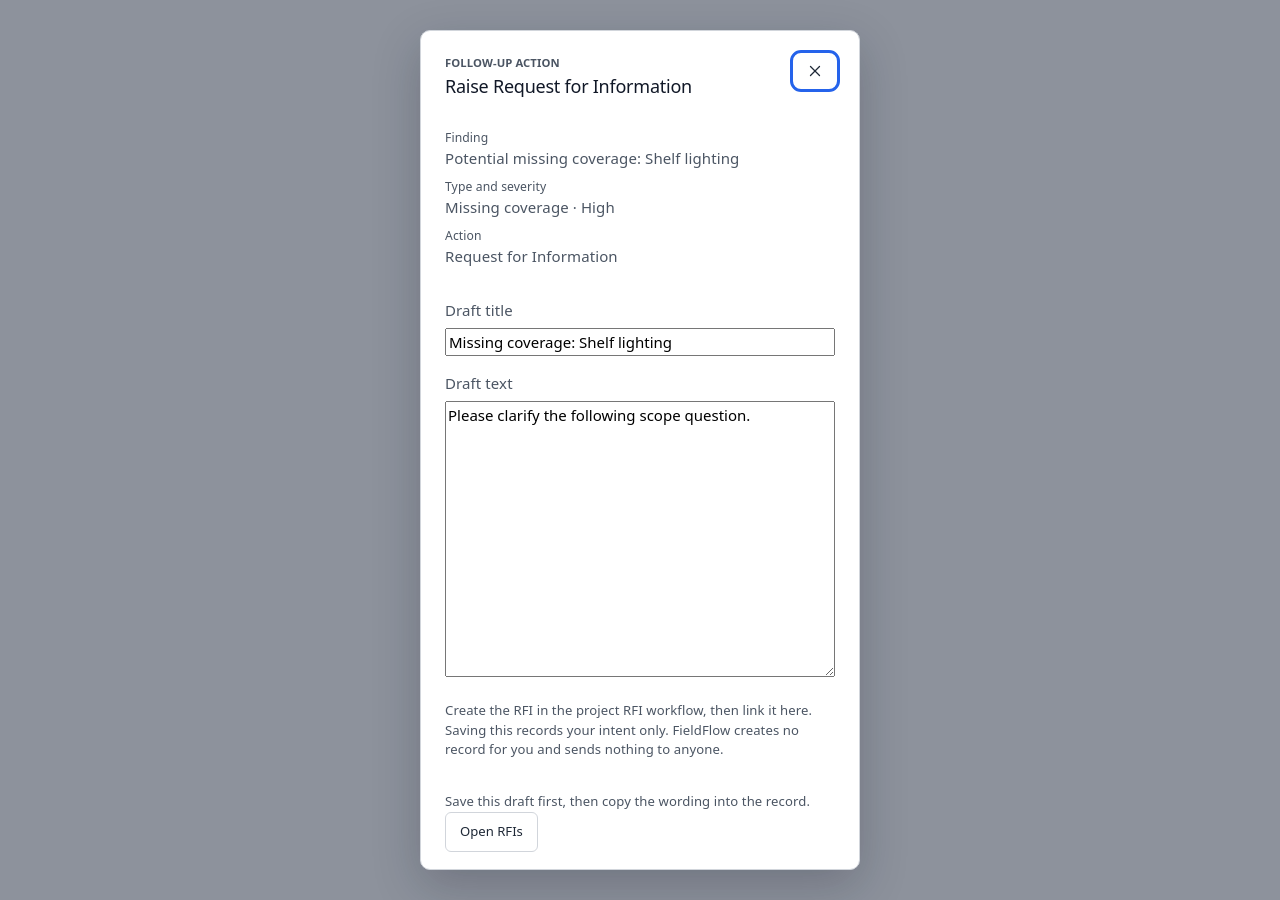
Test: RaiseFollowUpDialog › requires a title and a body
Step 1. Clear the field labelled "Draft title" → {"x": 640, "y": 342}, box [445, 328, 835, 356]
(page scrolled)
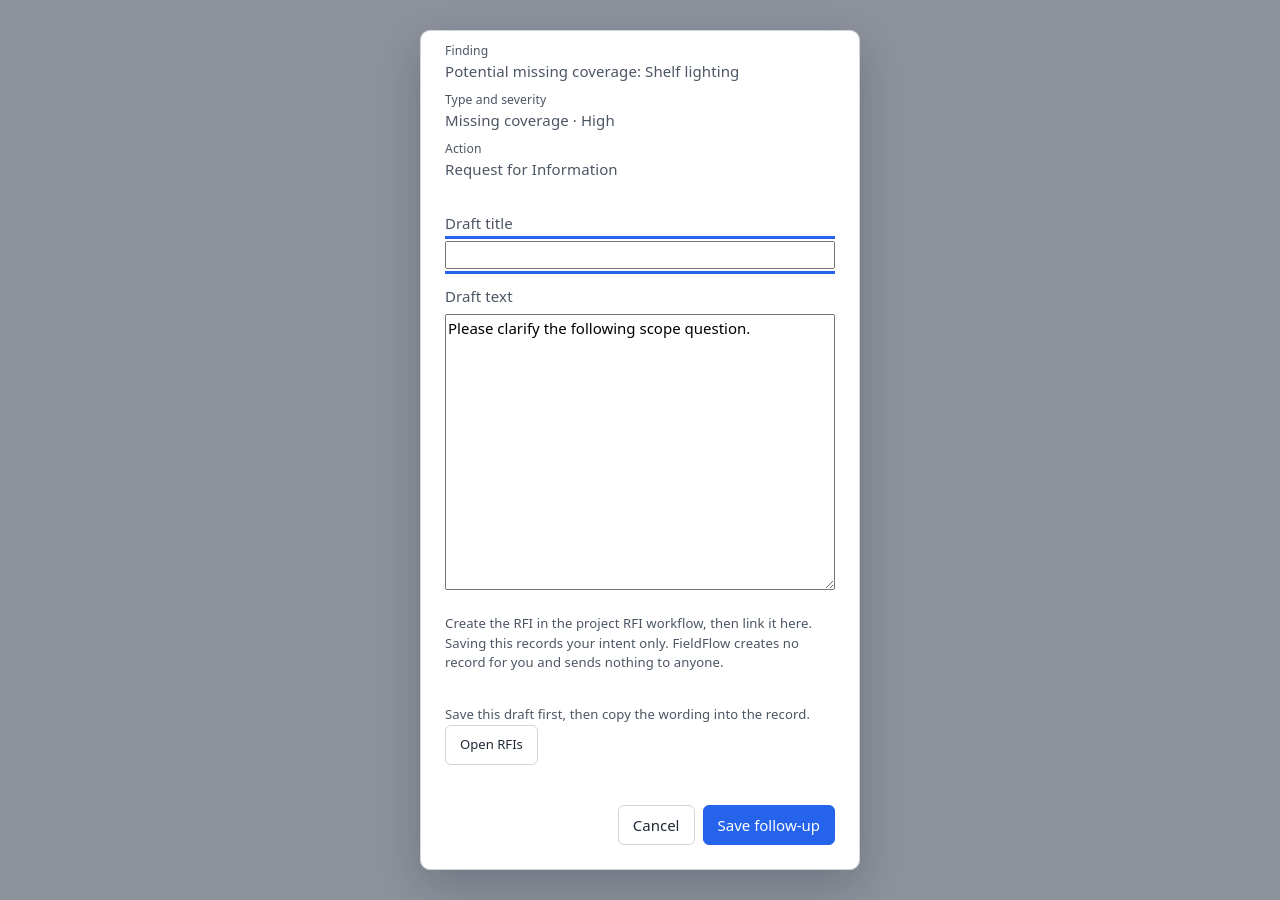
Step 2. Click the button "Save follow-up" → {"x": 769, "y": 825}, box [702, 805, 835, 845]
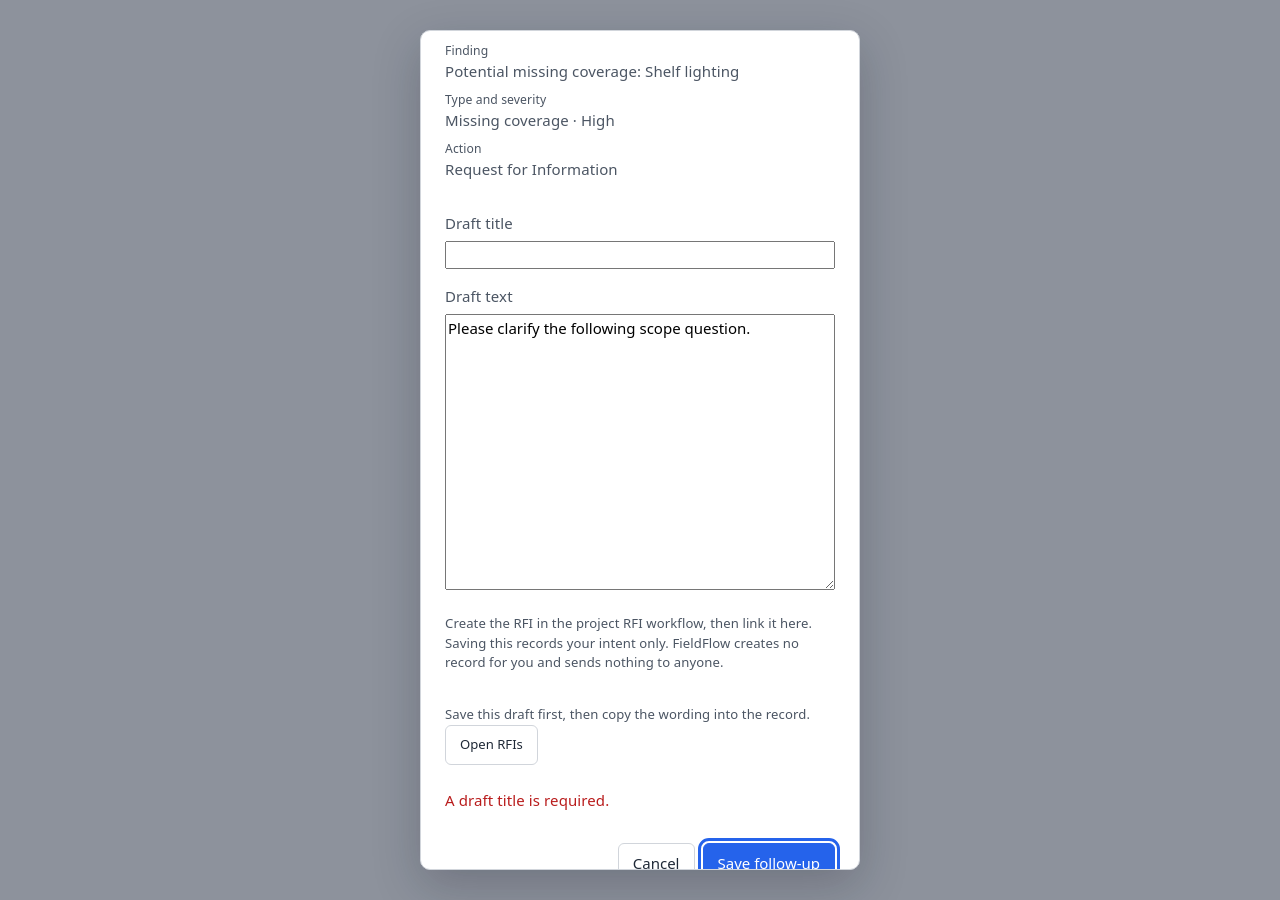
Result: the message reads "A draft title is required." at [445, 790, 609, 810]
